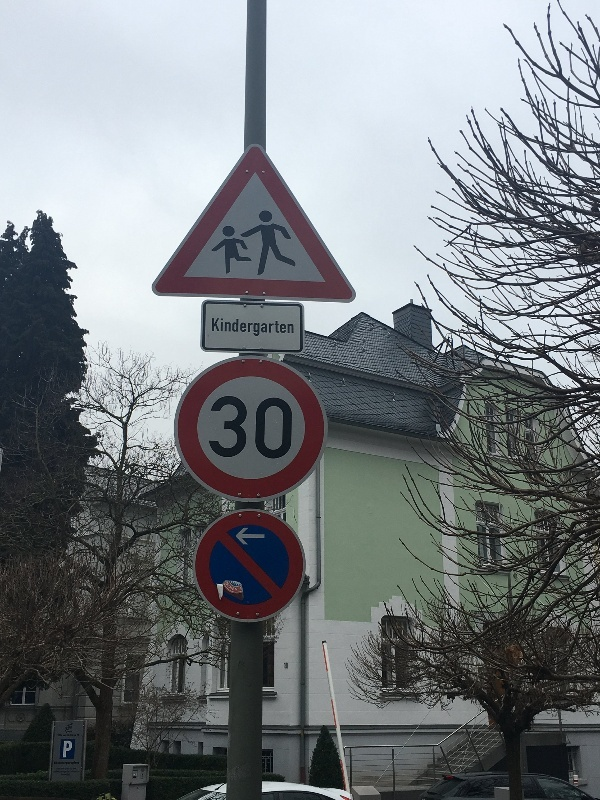text: (225, 395, 240, 460), (241, 395, 256, 460), (257, 395, 272, 460), (273, 395, 288, 460), (212, 395, 224, 460), (225, 317, 240, 340), (241, 317, 256, 340), (257, 317, 272, 340), (273, 317, 288, 340), (212, 317, 224, 340), (289, 395, 293, 460), (65, 741, 73, 759), (228, 582, 240, 594), (289, 317, 294, 340), (65, 761, 79, 766), (54, 761, 64, 766), (65, 734, 80, 737), (58, 734, 64, 737)
